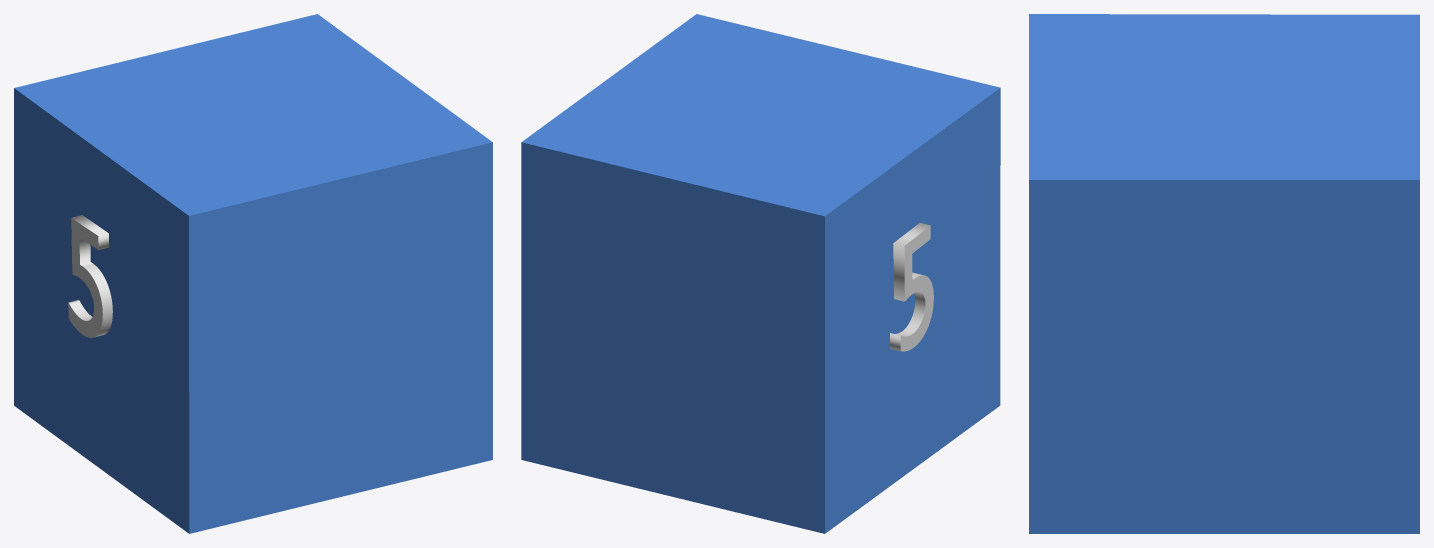
File: bluecube.glb
3 renders of one model, left to right at view 1: azimuth 30°, elevation 25°; view 2: azimuth 150°, elevation 25°; view 3: azimuth 270°, elevation 25°, orthographic. The views are drawn at different scales.
Parts seen in each view (by area): view 1: Cube, Text; view 2: Cube, Text; view 3: Cube.
Boxes of the visible parts, left/top/right/bottom form: Cube: left=14, top=14, right=492, bottom=533; Text: left=68, top=215, right=112, bottom=337; Cube: left=521, top=14, right=1000, bottom=533; Text: left=890, top=223, right=933, bottom=351; Cube: left=1029, top=14, right=1419, bottom=533.
Bounding box in the file's own units: 2.07 × 2 × 2.
